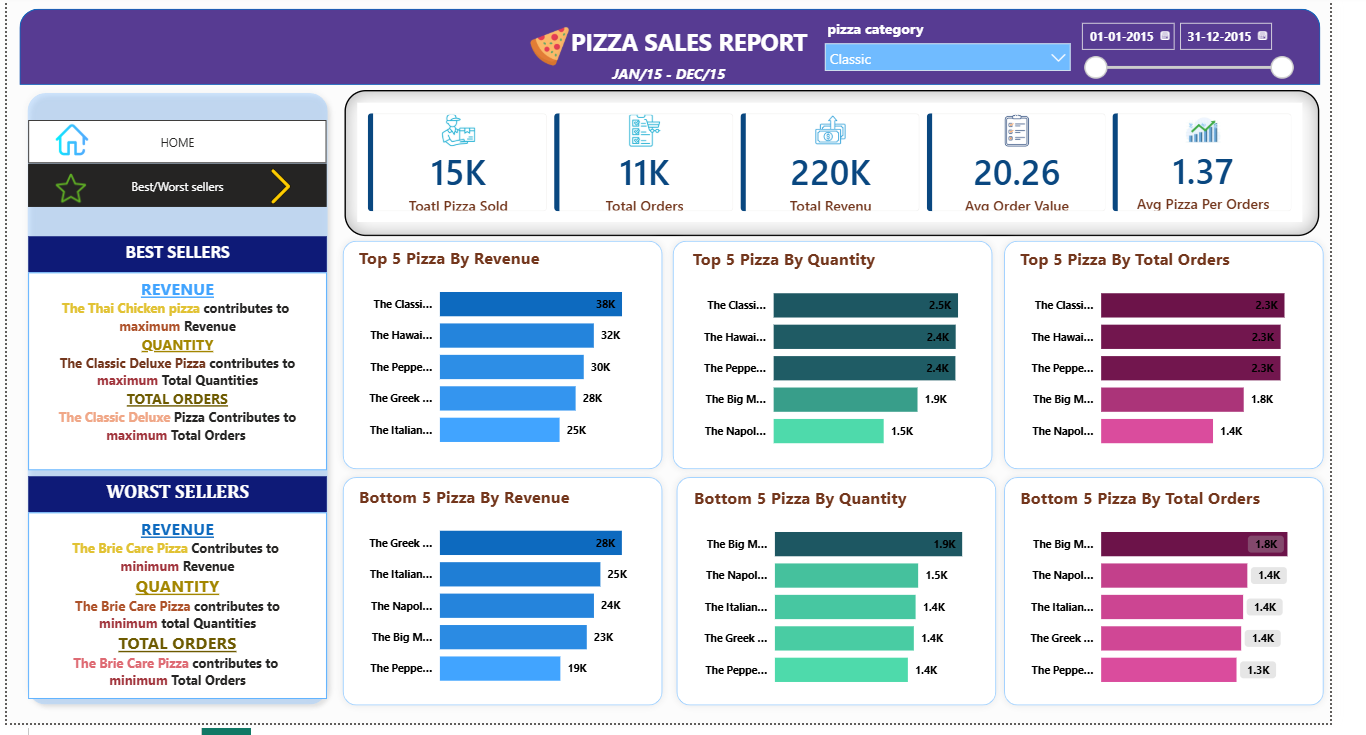

This screenshot's page, from the dashboard's own definition file:
{"tool":"powerbi","page":{"name":"Best/Worst sellers","canvas":[1500,820],"ordinal":1},"visuals":[{"type":"shape","box":[14.2,96.3,358.4,711.2],"z":0},{"type":"cardVisual","fields":{"Data":["pizza_sales.Toatl Pizza Sold","pizza_sales.Total Orders","pizza_sales.Total Revenu","pizza_sales.Avg Order Value","pizza_sales.Avg Pizza Per Orders"]},"box":[382.5,102,1105.1,165.8],"z":1000},{"type":"shape","box":[13.5,10.1,1474.3,86.2],"z":2000},{"type":"textbox","box":[615.4,23.7,316.2,84.5],"z":3000},{"type":"textbox","box":[676.3,65.9,148.8,35.5],"z":4000},{"type":"image","box":[591.8,23.7,45.6,57.5],"z":5000},{"type":"shape","box":[372.6,264.9,378.3,274.8],"z":6000},{"type":"textbox","box":[24.1,267.8,338.6,41.1],"z":16000},{"type":"textbox","box":[24.1,308.8,338.6,223.8],"z":17000},{"type":"textbox","box":[24.1,539.8,338.6,41.1],"z":18000},{"type":"textbox","box":[24.1,580.9,338.6,211.1],"z":19000},{"type":"slicer","fields":{"Values":["pizza_sales.pizza_category"]},"box":[916.6,15.6,298.9,86.4],"z":20000},{"type":"slicer","fields":{"Values":["pizza_sales.order_date"]},"box":[1205.6,15.6,260.7,86.4],"z":21000},{"type":"shape","box":[746.6,264.9,378.3,274.8],"z":21001},{"type":"shape","box":[1122.1,264.9,378.3,274.8],"z":21002},{"type":"shape","box":[372.6,532.7,378.3,274.8],"z":21003},{"type":"shape","box":[750.9,532.7,378.3,274.8],"z":21004},{"type":"shape","box":[1122.1,532.7,378.3,274.8],"z":21005},{"type":"barChart","title":"Top 5 Pizza By Revenue","fields":{"Category":["pizza_sales.pizza_name"],"Y":["pizza_sales.Total Revenu"]},"box":[393.9,279.1,335.8,242.3],"z":21006},{"type":"barChart","title":"Bottom 5 Pizza By Revenue","fields":{"Category":["pizza_sales.pizza_name"],"Y":["pizza_sales.Total Revenu"]},"box":[393.9,549.7,335.8,242.3],"z":21007},{"type":"barChart","title":"Top 5 Pizza By Quantity","fields":{"Category":["pizza_sales.pizza_name"],"Y":["pizza_sales.Toatl Pizza Sold"]},"box":[772.1,280.5,335.8,242.3],"z":21008},{"type":"barChart","title":"Bottom 5 Pizza By Quantity","fields":{"Category":["pizza_sales.pizza_name"],"Y":["pizza_sales.Toatl Pizza Sold"]},"box":[773.5,551.1,335.8,242.3],"z":21009},{"type":"barChart","title":"Top 5 Pizza By Total Orders","fields":{"Category":["pizza_sales.pizza_name"],"Y":["pizza_sales.Total Orders"]},"box":[1143.3,280.5,335.8,242.3],"z":21010},{"type":"barChart","title":"Bottom 5 Pizza By Total Orders","fields":{"Category":["pizza_sales.pizza_name"],"Y":["pizza_sales.Total Orders"]},"box":[1143.3,551.1,335.8,242.3],"z":21011},{"type":"pageNavigator","box":[24.1,136,338.6,49.6],"z":21012},{"type":"pageNavigator","box":[24.1,185.6,338.6,49.6],"z":21013},{"type":"image","box":[55.3,191.3,34,43.9],"z":21014},{"type":"image","box":[55.3,136,36.8,45.3],"z":21015},{"type":"image","box":[284.8,191.3,51,39.7],"z":21016}]}

Visuals, with their boxes in screenshot pixels (x1, y1, x2, y2), scaled from the page's 1500x820 canvas onto the 1366x735 screenshot:
shape: <bbox>13, 86, 339, 724</bbox>
cardVisual - pizza_sales.Toatl Pizza Sold x pizza_sales.Total Orders: <bbox>348, 91, 1355, 240</bbox>
shape: <bbox>12, 9, 1355, 86</bbox>
textbox: <bbox>560, 21, 848, 97</bbox>
textbox: <bbox>616, 59, 751, 91</bbox>
image: <bbox>539, 21, 580, 73</bbox>
shape: <bbox>339, 237, 684, 484</bbox>
textbox: <bbox>22, 240, 330, 277</bbox>
textbox: <bbox>22, 277, 330, 477</bbox>
textbox: <bbox>22, 484, 330, 521</bbox>
textbox: <bbox>22, 521, 330, 710</bbox>
slicer - pizza_sales.pizza_category: <bbox>835, 14, 1107, 91</bbox>
slicer - pizza_sales.order_date: <bbox>1098, 14, 1335, 91</bbox>
shape: <bbox>680, 237, 1024, 484</bbox>
shape: <bbox>1022, 237, 1365, 484</bbox>
shape: <bbox>339, 477, 684, 724</bbox>
shape: <bbox>684, 477, 1028, 724</bbox>
shape: <bbox>1022, 477, 1365, 724</bbox>
"Top 5 Pizza By Revenue" barChart: <bbox>359, 250, 665, 467</bbox>
"Bottom 5 Pizza By Revenue" barChart: <bbox>359, 493, 665, 710</bbox>
"Top 5 Pizza By Quantity" barChart: <bbox>703, 251, 1009, 469</bbox>
"Bottom 5 Pizza By Quantity" barChart: <bbox>704, 494, 1010, 711</bbox>
"Top 5 Pizza By Total Orders" barChart: <bbox>1041, 251, 1347, 469</bbox>
"Bottom 5 Pizza By Total Orders" barChart: <bbox>1041, 494, 1347, 711</bbox>
pageNavigator: <bbox>22, 122, 330, 166</bbox>
pageNavigator: <bbox>22, 166, 330, 211</bbox>
image: <bbox>50, 171, 81, 211</bbox>
image: <bbox>50, 122, 84, 163</bbox>
image: <bbox>259, 171, 306, 207</bbox>
